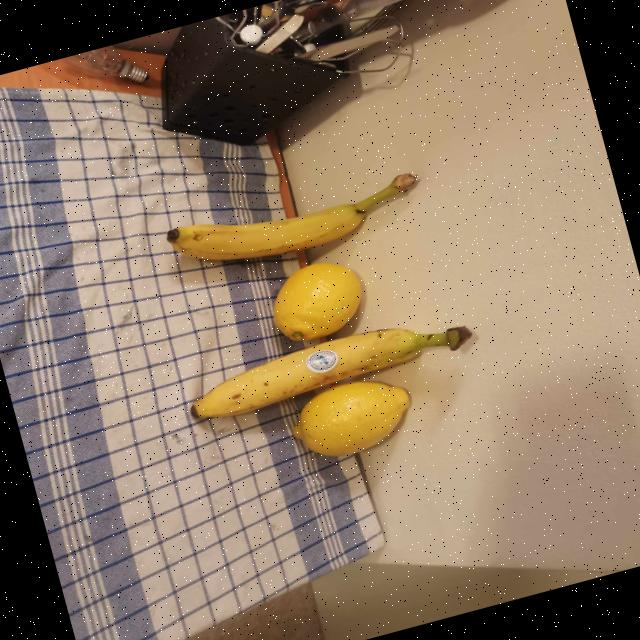banana: (190, 326, 471, 418), (166, 173, 416, 260)
lemon: (293, 381, 409, 456), (272, 262, 360, 341)
